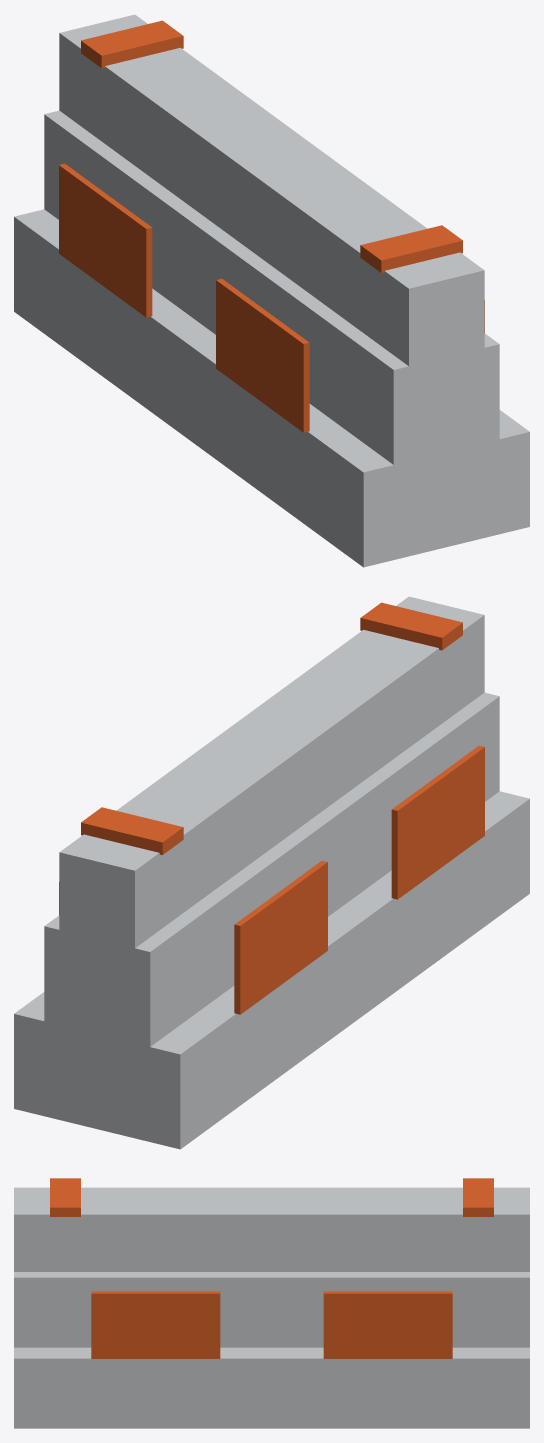
The model's file is jersey-barrier.glb.
3 views of the same model, one above another, from view 1: azimuth 30°, elevation 25°; view 2: azimuth 150°, elevation 25°; view 3: azimuth 270°, elevation 25° (orthographic). The views are drawn at different scales.
Parts seen in each view (by area): view 1: top, base, mid, stripe2, stripe1, capstrip, capstrip.001; view 2: top, base, mid, stripe1, stripe2, capstrip.001, capstrip; view 3: top, base, mid, stripe1.001, stripe2.001, capstrip, capstrip.001.
Part boxes in pixels (x1,y1,x2,y2): top: (59,14,484,367); base: (14,209,529,567); mid: (44,110,499,464); stripe2: (59,163,152,317); stripe1: (216,279,309,432); capstrip: (360,225,462,272); capstrip.001: (81,20,183,68); top: (59,596,484,949); base: (14,791,529,1149); mid: (44,692,499,1046); stripe1: (391,745,484,899); stripe2: (234,861,327,1014); capstrip.001: (81,807,183,854); capstrip: (360,602,462,650); top: (14,1187,529,1271); base: (14,1347,529,1428); mid: (14,1272,529,1347); stripe1.001: (91,1291,220,1358); stripe2.001: (323,1291,452,1358); capstrip: (50,1178,80,1216); capstrip.001: (463,1178,493,1216).
Size of the model in its own units: 0.6 by 0.88 by 2.
